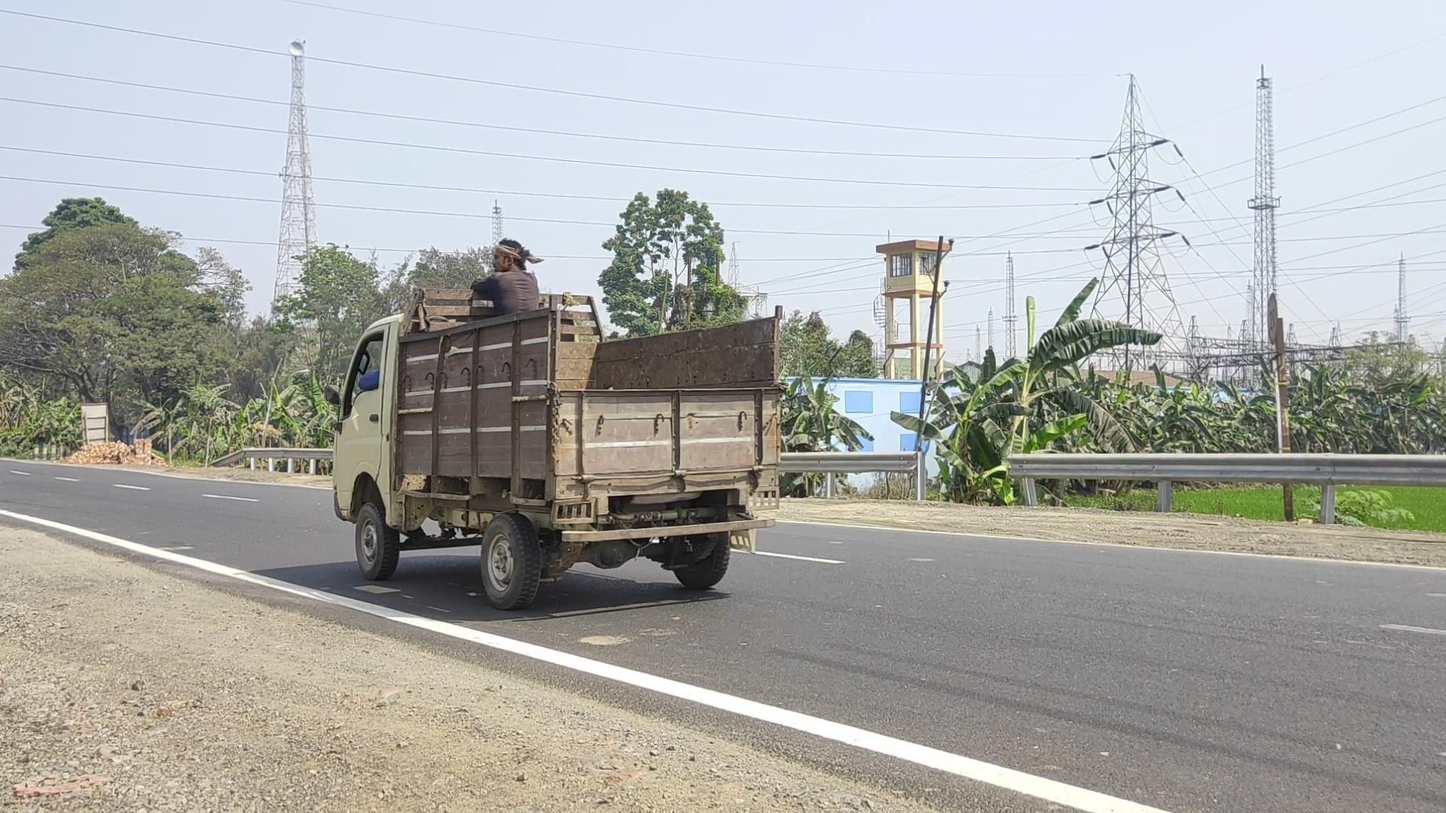van: (325, 241, 787, 611)
